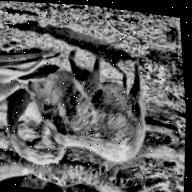boar: (18, 33, 168, 172)
